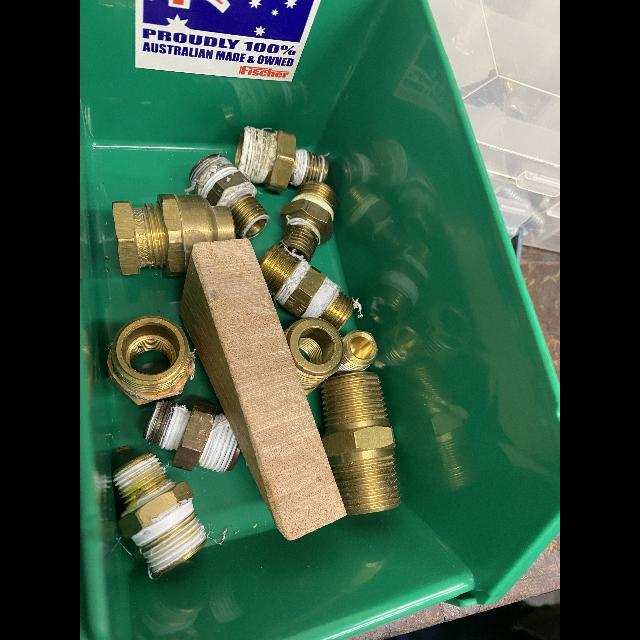Brass: (322, 373, 400, 515), (112, 193, 235, 277), (108, 315, 194, 405), (285, 318, 343, 394), (117, 482, 195, 537), (173, 399, 217, 471), (114, 452, 170, 505), (281, 199, 333, 244), (282, 265, 326, 316), (259, 245, 299, 297), (263, 130, 296, 193), (158, 538, 206, 574), (337, 330, 377, 372), (230, 195, 268, 237), (207, 171, 249, 207), (279, 224, 318, 262), (319, 292, 354, 331), (298, 182, 337, 211), (150, 402, 174, 446), (301, 152, 328, 184), (190, 154, 222, 180), (235, 129, 245, 167), (228, 445, 240, 471)
